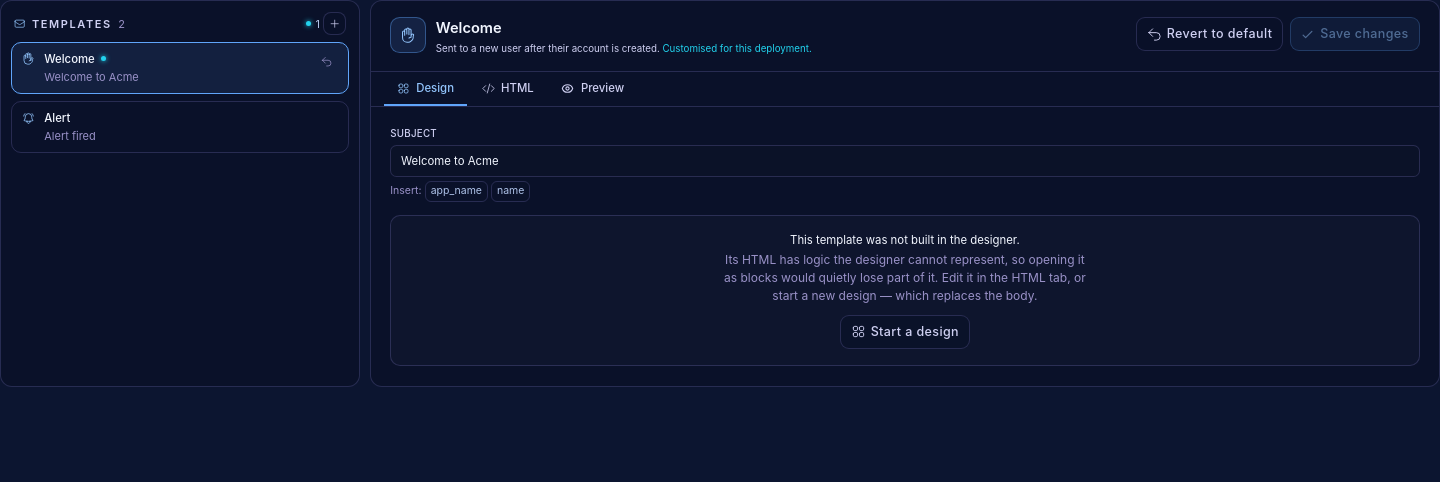
Scenario: the templates library › does not carry an unsaved draft into another template
Expected: the field showing "Welcome to Acme" is shown, 390,145 -> 1420,177
Click the tab "HTML" at (508,89), box 469,72 -> 547,106
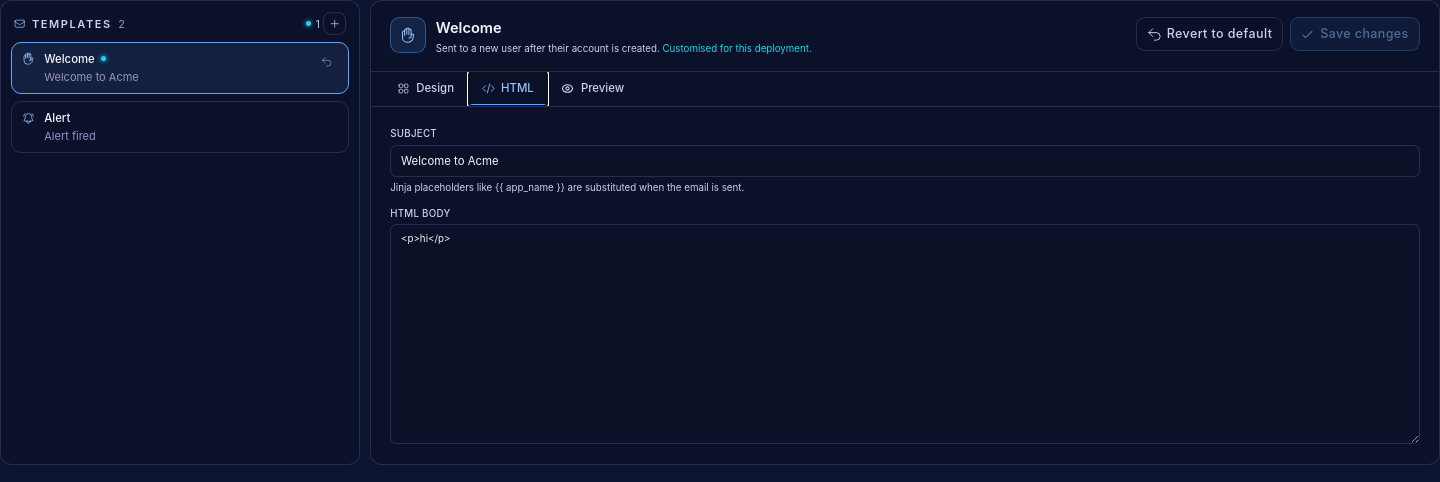
Replace the text in the text box showing "<p>hi</p>" with "DRAFT" at (905,334), box 390,224 -> 1420,444
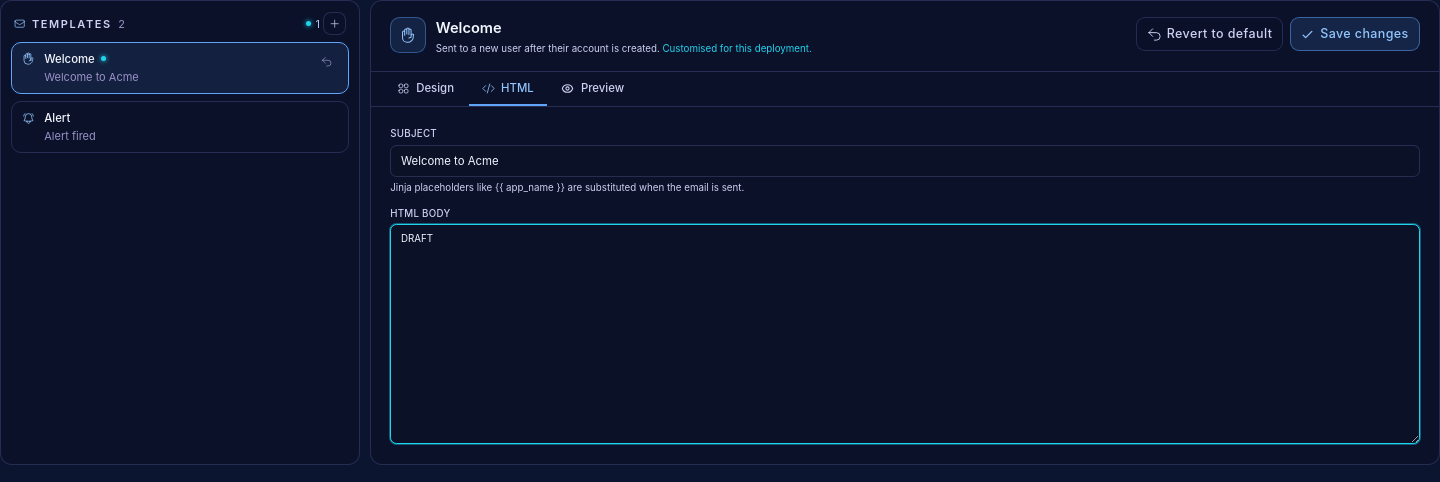
Click the button "Alert Alert fired" at (70,136), box 22,110 -> 338,144
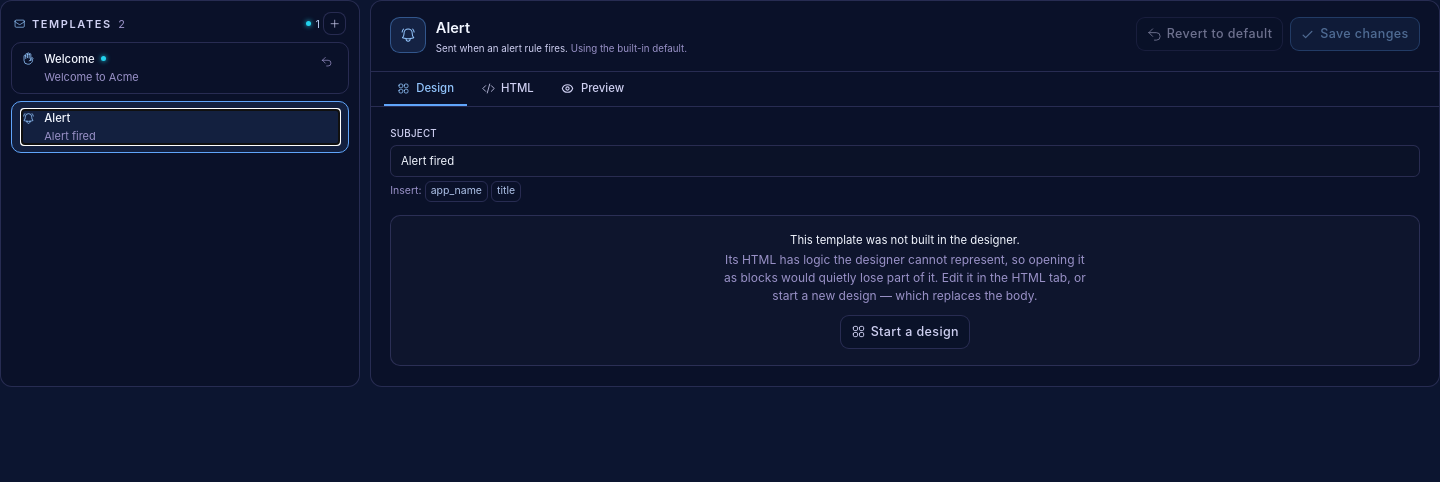
Expected: the field showing "DRAFT" is not shown
Now the field showing "Alert fired" is shown, box 390,145 -> 1420,177
